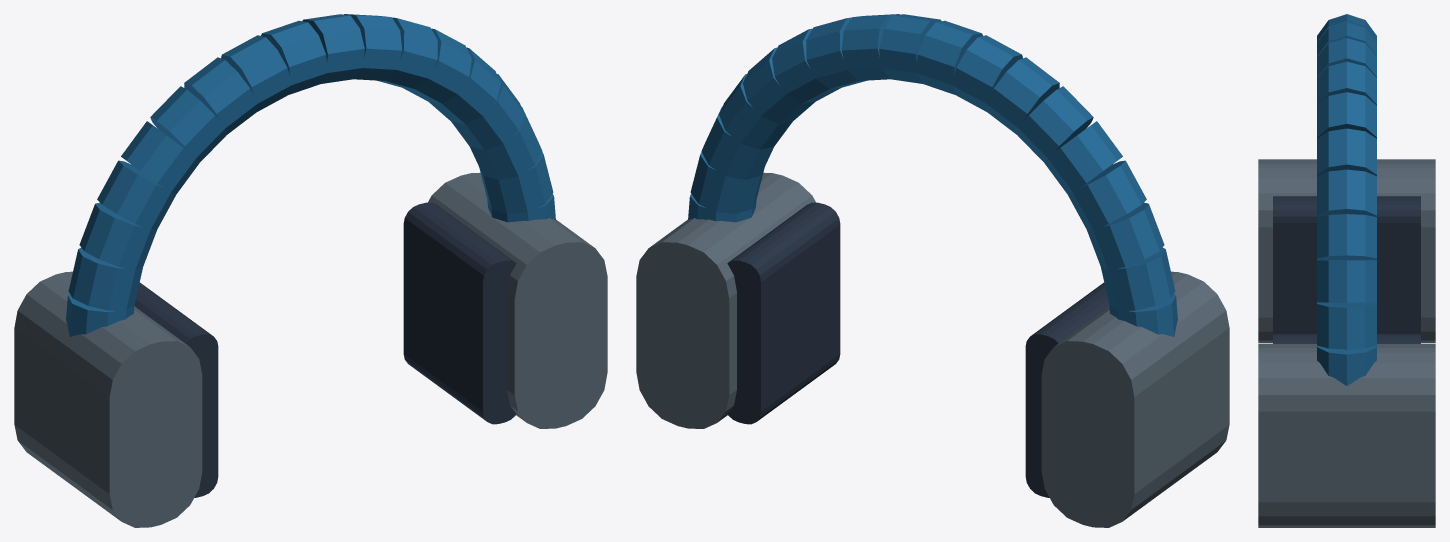
Rendered from headphones.glb.
3 views of the same model, side by side, from view 1: azimuth 30°, elevation 25°; view 2: azimuth 150°, elevation 25°; view 3: azimuth 270°, elevation 25° (orthographic). The views are drawn at different scales.
Visible parts, largest first — view 1: left cup, right cup, right pad, left pad, headband15, headband14, headband12, headband16, headband11, headband13, headband10, headband9 (+10 smaller); view 2: left cup, right cup, right pad, left pad, headband15, headband14, headband12, headband16, headband11, headband13, headband10, headband9 (+10 smaller); view 3: right cup, left pad, left cup, headband1, headband3, headband4, headband2, headband5, headband6, headband7, headband0, headband8 (+3 smaller).
Boxes of the visible parts, x1=… form: left cup: x1=14, y1=271, x2=202, y2=527; right cup: x1=428, y1=172, x2=607, y2=428; right pad: x1=403, y1=202, x2=516, y2=424; left pad: x1=134, y1=282, x2=218, y2=497; headband15: x1=79, y1=202, x2=156, y2=269; headband14: x1=97, y1=160, x2=176, y2=230; headband12: x1=150, y1=86, x2=226, y2=162; headband16: x1=68, y1=247, x2=142, y2=310; headband11: x1=184, y1=57, x2=257, y2=134; headband13: x1=121, y1=121, x2=199, y2=194; headband10: x1=221, y1=35, x2=292, y2=111; headband9: x1=261, y1=20, x2=327, y2=94; left cup: x1=1041, y1=271, x2=1229, y2=527; right cup: x1=636, y1=172, x2=815, y2=428; right pad: x1=727, y1=202, x2=840, y2=424; left pad: x1=1025, y1=282, x2=1109, y2=497; headband15: x1=1087, y1=202, x2=1164, y2=270; headband14: x1=1067, y1=160, x2=1146, y2=230; headband12: x1=1017, y1=86, x2=1093, y2=162; headband16: x1=1101, y1=247, x2=1175, y2=310; headband11: x1=986, y1=57, x2=1059, y2=134; headband13: x1=1044, y1=121, x2=1122, y2=194; headband10: x1=951, y1=35, x2=1022, y2=111; headband9: x1=917, y1=20, x2=982, y2=94; right cup: x1=1258, y1=344, x2=1435, y2=527; left pad: x1=1273, y1=196, x2=1420, y2=333; left cup: x1=1258, y1=159, x2=1435, y2=343; headband1: x1=1317, y1=302, x2=1376, y2=349; headband3: x1=1317, y1=214, x2=1376, y2=259; headband4: x1=1317, y1=169, x2=1376, y2=216; headband2: x1=1317, y1=260, x2=1376, y2=302; headband5: x1=1317, y1=128, x2=1376, y2=176; headband6: x1=1317, y1=92, x2=1376, y2=138; headband7: x1=1317, y1=61, x2=1376, y2=105; headband0: x1=1317, y1=345, x2=1376, y2=385; headband8: x1=1317, y1=38, x2=1376, y2=77.
Size of the model in its own units: 1.45 by 1.17 by 0.48.
